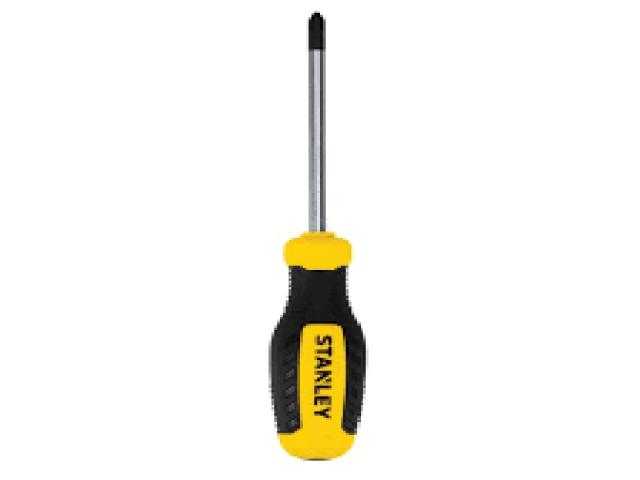Screwdriver: (271, 13, 365, 459)
